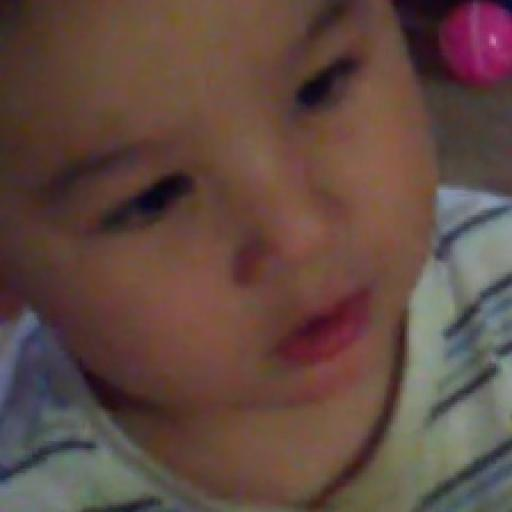Autism: (19, 3, 460, 438)
